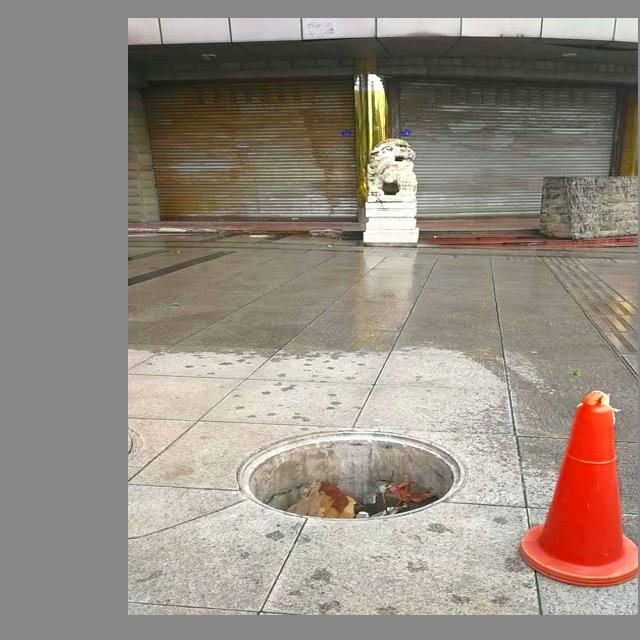lose: (222, 424, 470, 529)
